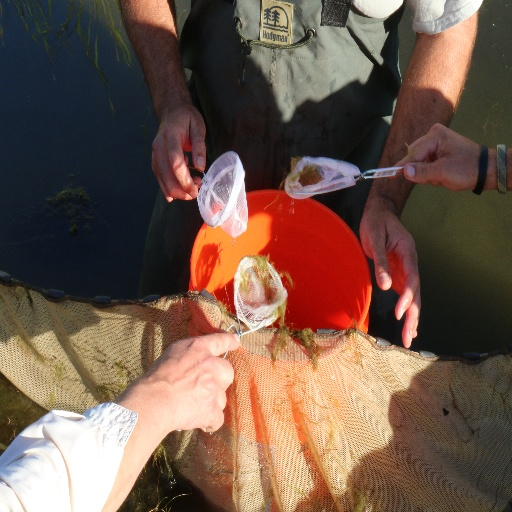hand: (122, 320, 238, 468), (357, 198, 423, 349), (388, 120, 486, 192), (149, 102, 207, 204)
